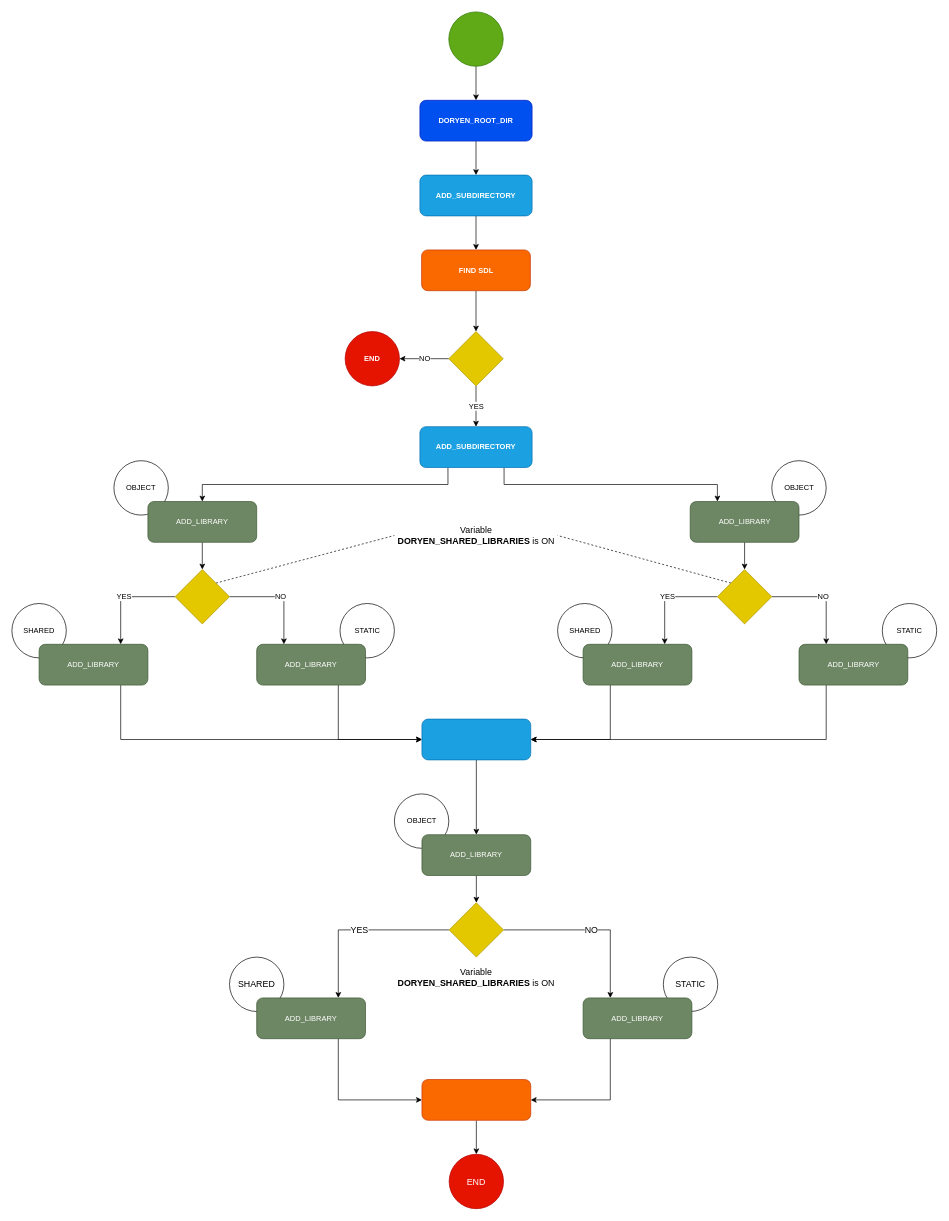
Some shapes in this 949 by 1221 pixel diagram are drawn without their labels. The shapes that lost their labels are listed below. From the top down, each one's centre as x and y in pixels, then its label:
At (475,38): "START".
At (476,739): "RETURN".
At (476,1099): "MOVE FILES".
